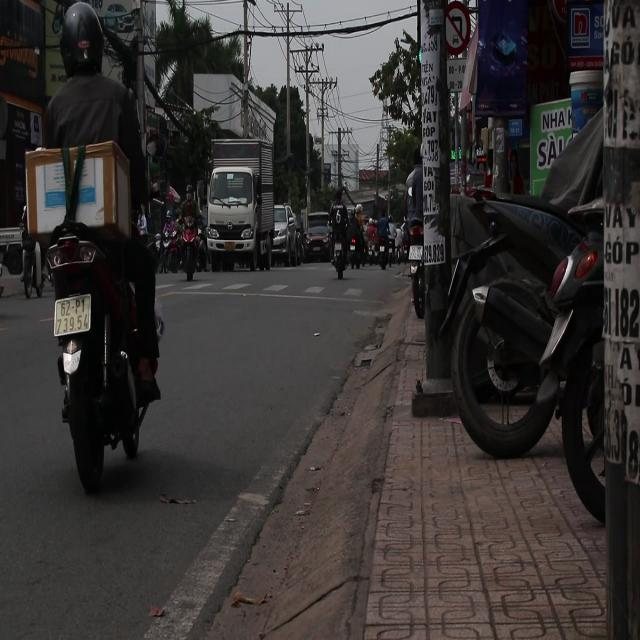car: (273, 206, 299, 266), (304, 225, 332, 260)
motorbike: (45, 223, 164, 491), (172, 190, 205, 300), (325, 206, 364, 290)
truck: (205, 142, 267, 269)
